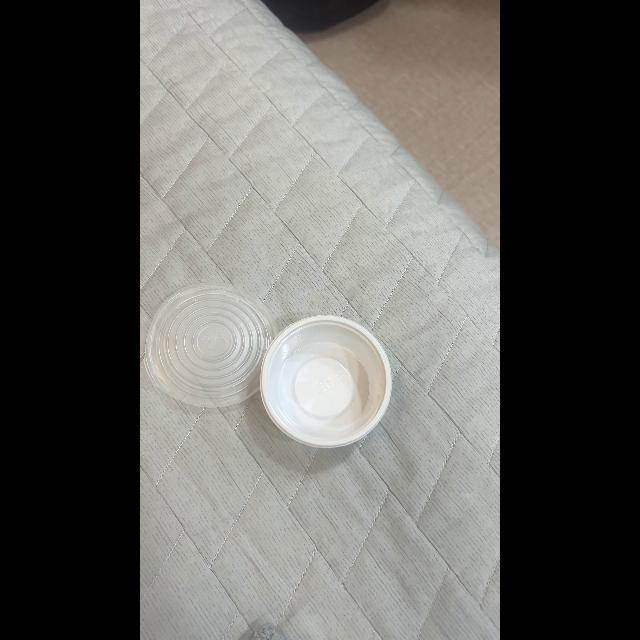clean: (260, 316, 390, 448), (144, 285, 280, 407)
